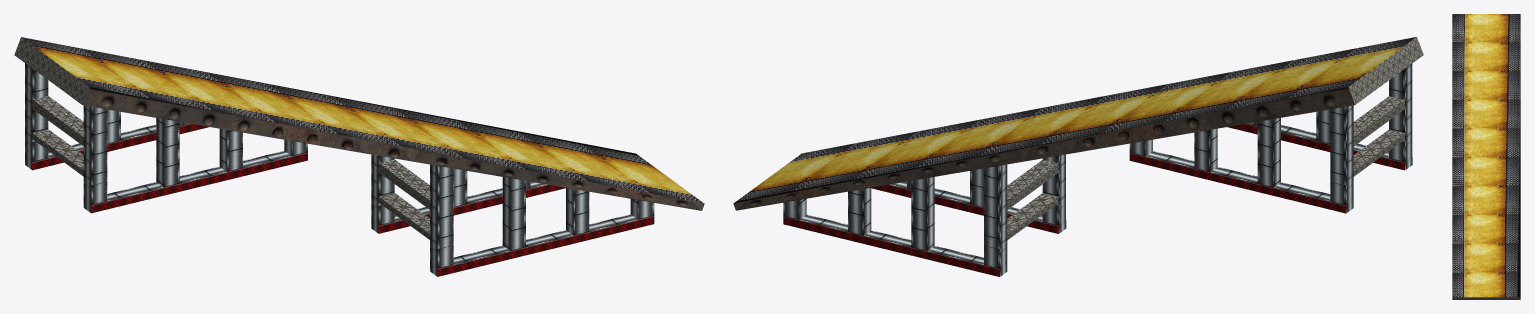
Rendered from ramp12.fbx.
3 views of the same model, side by side, from view 1: azimuth 30°, elevation 25°; view 2: azimuth 150°, elevation 25°; view 3: azimuth 270°, elevation 25° (orthographic). The views are drawn at different scales.
Visible parts, largest first — view 1: pCube13; view 2: pCube13; view 3: pCube13.
Part boxes in pixels (box(x1,y1,x2,y2)): pCube13: box(14, 37, 704, 276); pCube13: box(733, 37, 1423, 276); pCube13: box(1452, 14, 1520, 299).
Bounding box in the file's own units: 14.23 × 6.03 × 2.72.
